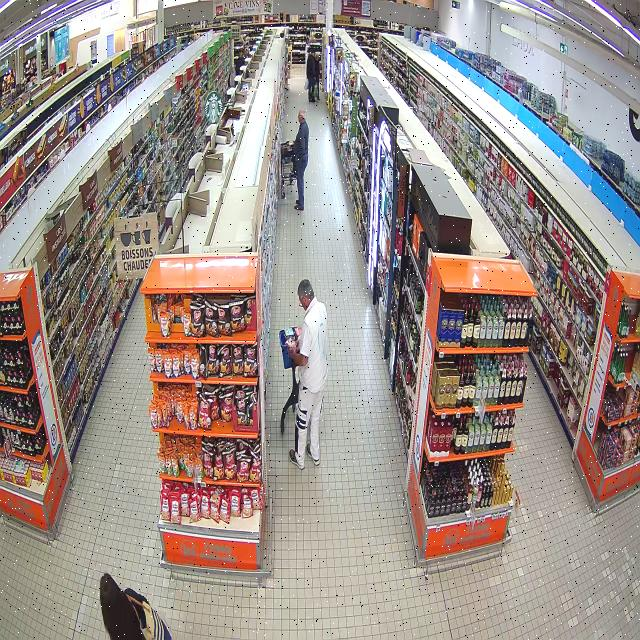article: (285, 338, 300, 352)
bags: (127, 595, 172, 640)
hands: (288, 347, 295, 358)
person: (289, 280, 328, 468), (100, 573, 172, 640), (293, 109, 308, 211)
